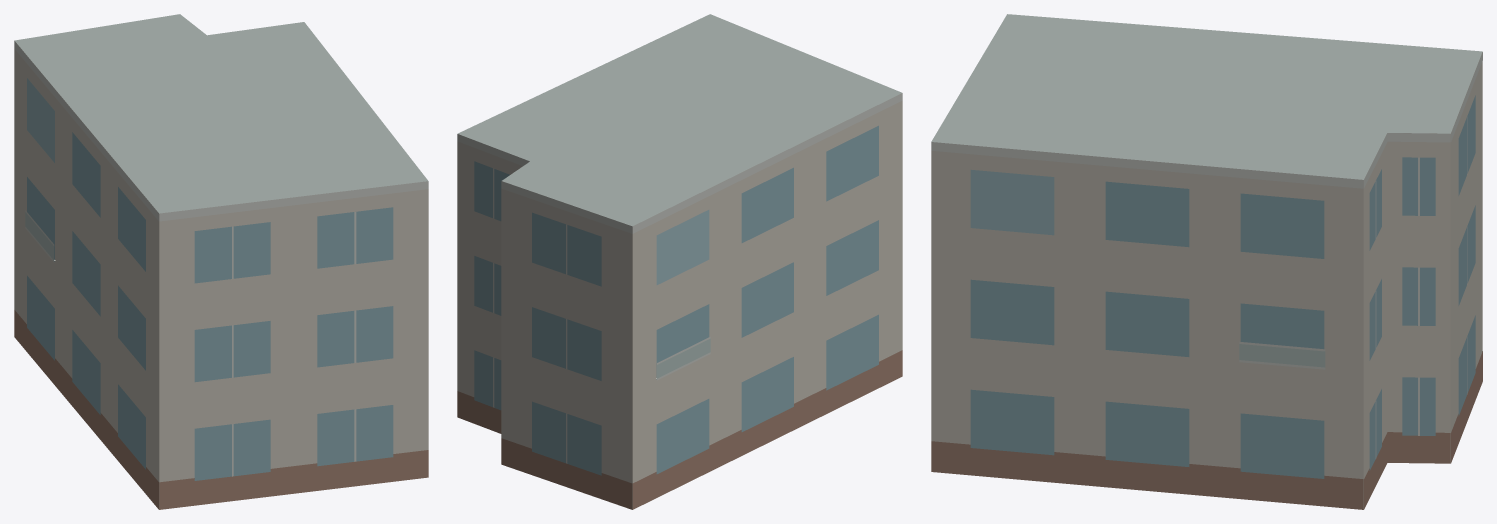
Rendered from survey-upis-32657443.glb.
3 views of the same model, side by side, from view 1: azimuth 30°, elevation 25°; view 2: azimuth 150°, elevation 25°; view 3: azimuth 270°, elevation 25° (orthographic). The views are drawn at different scales.
Parts seen in each view (by area): view 1: survey-upis-32657443.tmp; view 2: survey-upis-32657443.tmp; view 3: survey-upis-32657443.tmp.
Part boxes in pixels (left/top/right/bottom): survey-upis-32657443.tmp: left=14, top=14, right=428, bottom=509; survey-upis-32657443.tmp: left=457, top=14, right=902, bottom=509; survey-upis-32657443.tmp: left=931, top=14, right=1482, bottom=509.
Bounding box in the file's own units: 9.82 × 9.1 × 13.8.
